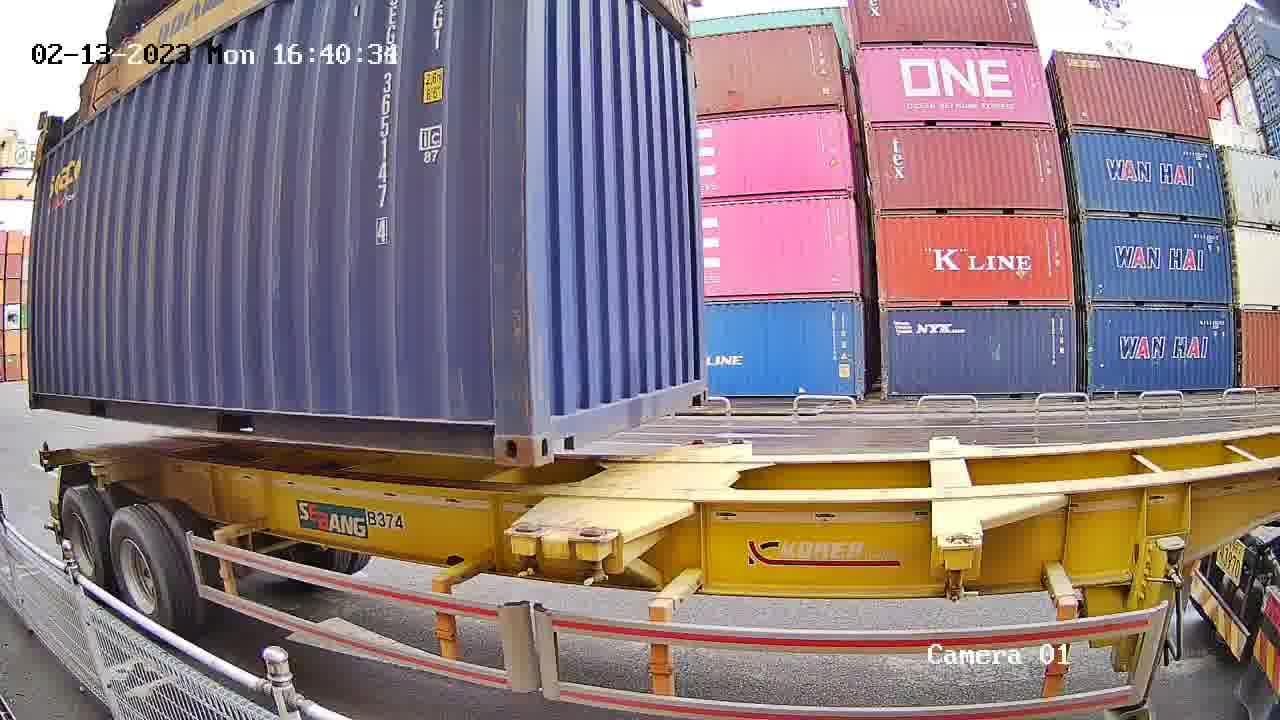Chassis: (573, 440, 751, 543), (506, 444, 704, 532)
Cone: (573, 527, 615, 585), (506, 524, 548, 579)
Hole_L: (533, 388, 585, 467)
Hole_R: (460, 397, 534, 466), (686, 367, 710, 405)
Tire: (109, 511, 177, 640), (60, 492, 105, 588)
